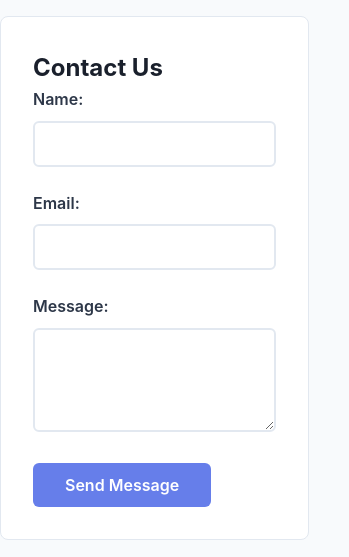
ContactForm Component › shows success message after submission
Note: Submit valid form
Type "John Doe" into the field labelled "Name:".
click(154, 144); type("John Doe")  # box x1=33 y1=121 x2=276 y2=167
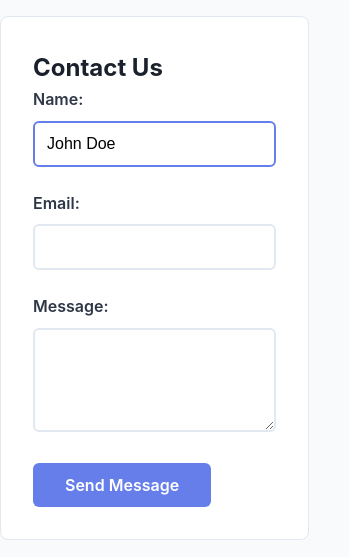
Type "john@example.com" into the field labelled "Email:".
click(154, 247); type("john@example.com")  # box x1=33 y1=224 x2=276 y2=270
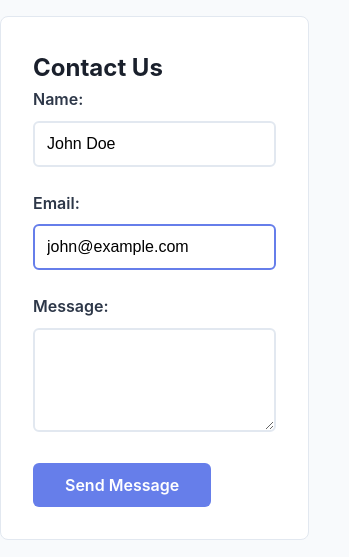
Type "This is a valid message with enough characters" into the text box labelled "Message:".
click(154, 380); type("This is a valid message with enough characters")  # box x1=33 y1=328 x2=276 y2=432
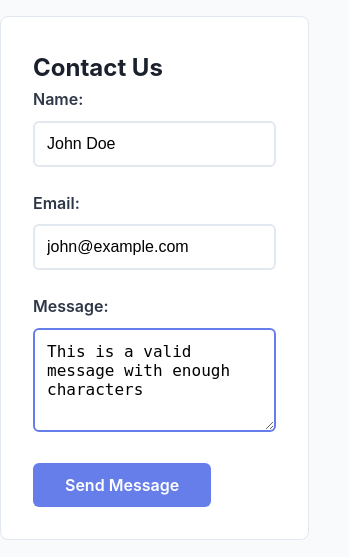
Click the button "Send Message".
click(122, 485)  # box x1=33 y1=463 x2=211 y2=507
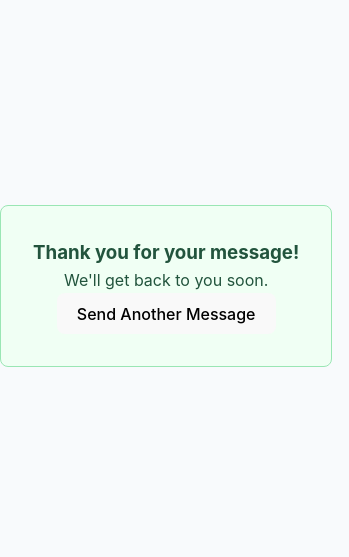
Check: the heading "Thank you for your message!" is shown, box x1=33 y1=238 x2=299 y2=268
Check: the text "We'll get back to you soon." is shown, box x1=64 y1=270 x2=268 y2=290
Check: the button "Send Another Message" is shown, box x1=57 y1=293 x2=276 y2=334
